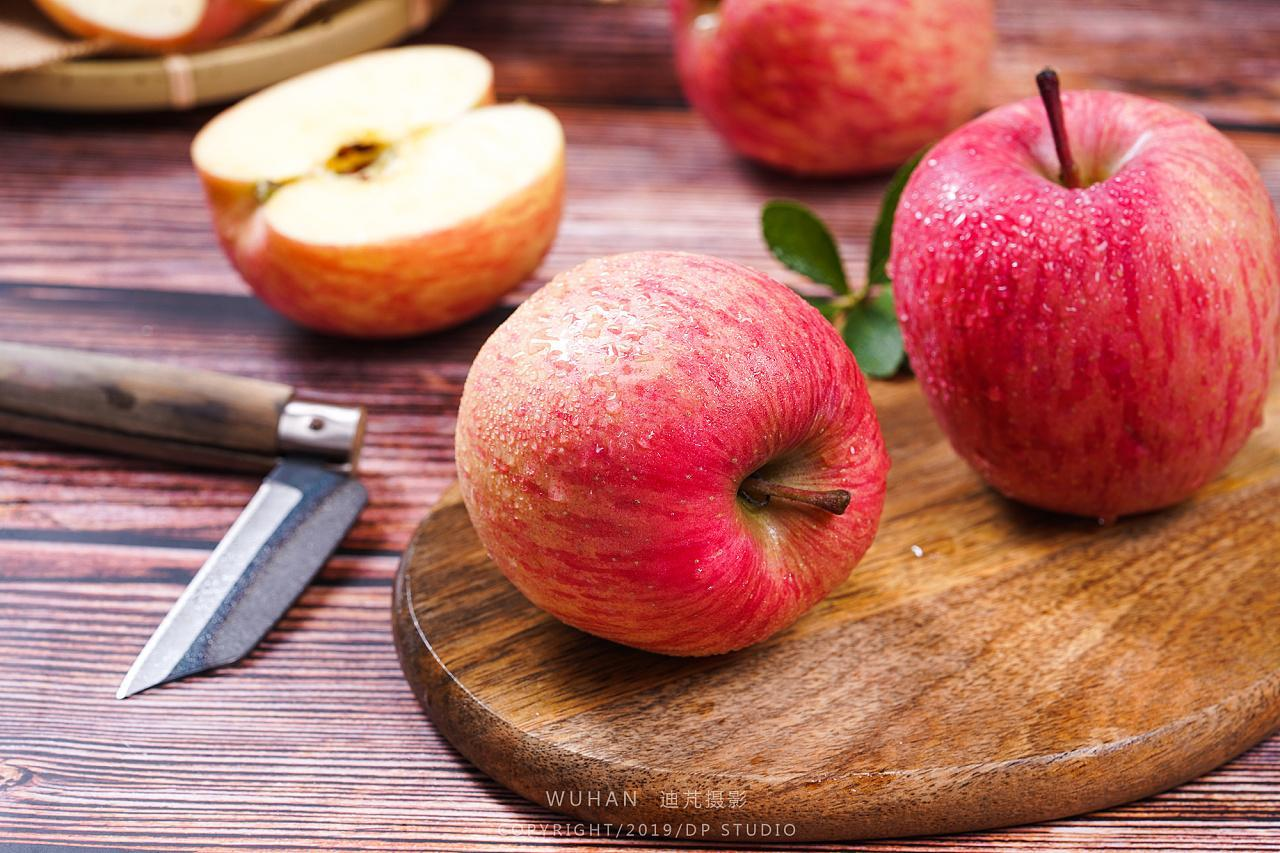apple: (447, 243, 886, 668), (883, 72, 1273, 529), (673, 1, 1001, 180)
